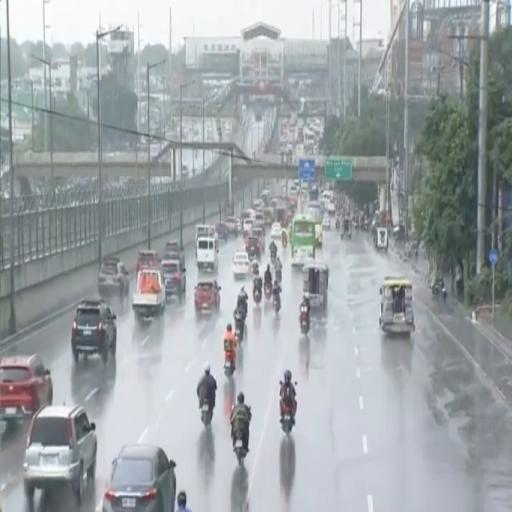bus: (290, 215, 316, 266), (304, 201, 324, 247), (309, 183, 318, 201)
car: (24, 406, 97, 505), (102, 444, 176, 511), (0, 355, 52, 422), (71, 299, 116, 362), (98, 256, 129, 300), (162, 260, 186, 300), (195, 280, 221, 316), (164, 240, 185, 266), (136, 250, 159, 271), (233, 251, 250, 278), (246, 235, 261, 260), (252, 228, 265, 252), (225, 216, 241, 235), (216, 222, 229, 241), (243, 218, 254, 235), (263, 208, 273, 226), (271, 222, 282, 238), (254, 211, 264, 228), (162, 252, 180, 261), (322, 215, 330, 229), (328, 202, 335, 215)
motorcycle: (281, 398, 294, 435), (234, 430, 247, 466), (201, 398, 212, 426), (432, 282, 447, 301), (300, 307, 309, 334), (224, 355, 234, 377), (236, 316, 244, 342), (273, 294, 281, 313), (254, 288, 261, 305), (265, 283, 272, 299), (275, 269, 281, 284), (335, 218, 341, 230), (271, 251, 276, 265)
truck: (132, 269, 165, 320)
